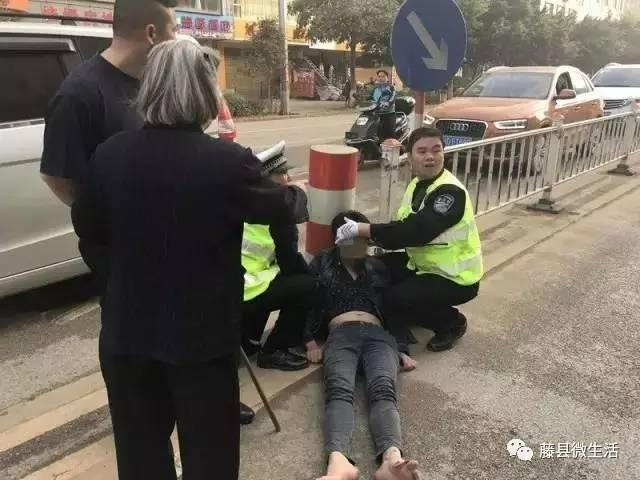Fall-Detected: (285, 194, 435, 480)
